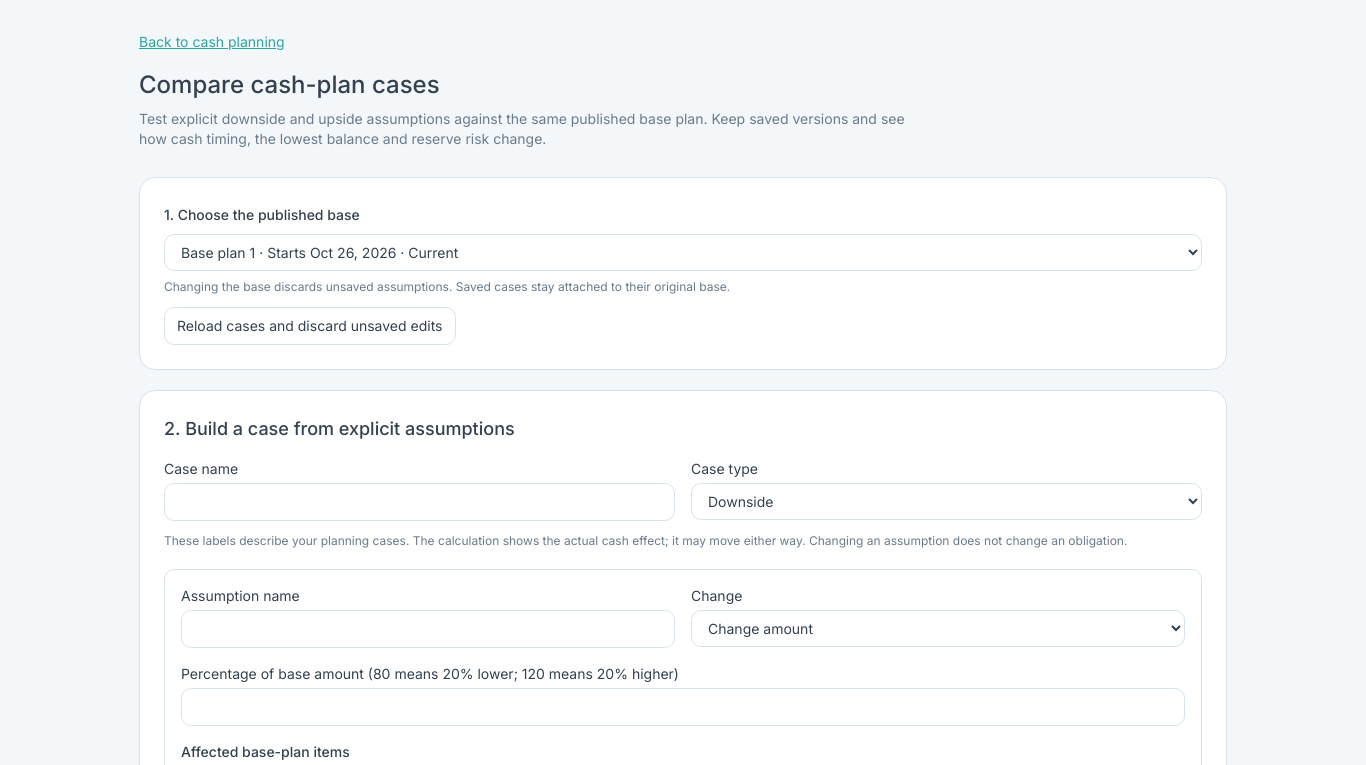
Test case: Saved cash-case owner workflow › builds an explicit percentage assumption, compares exact weeks, saves and reloads history
Type "Lower collections" into the field labelled "Case name". click: x=420, y=502
box: [164, 483, 675, 521]
Type "Partial receipt" into the field labelled "Assumption name". click: x=428, y=629
box: [181, 610, 675, 648]
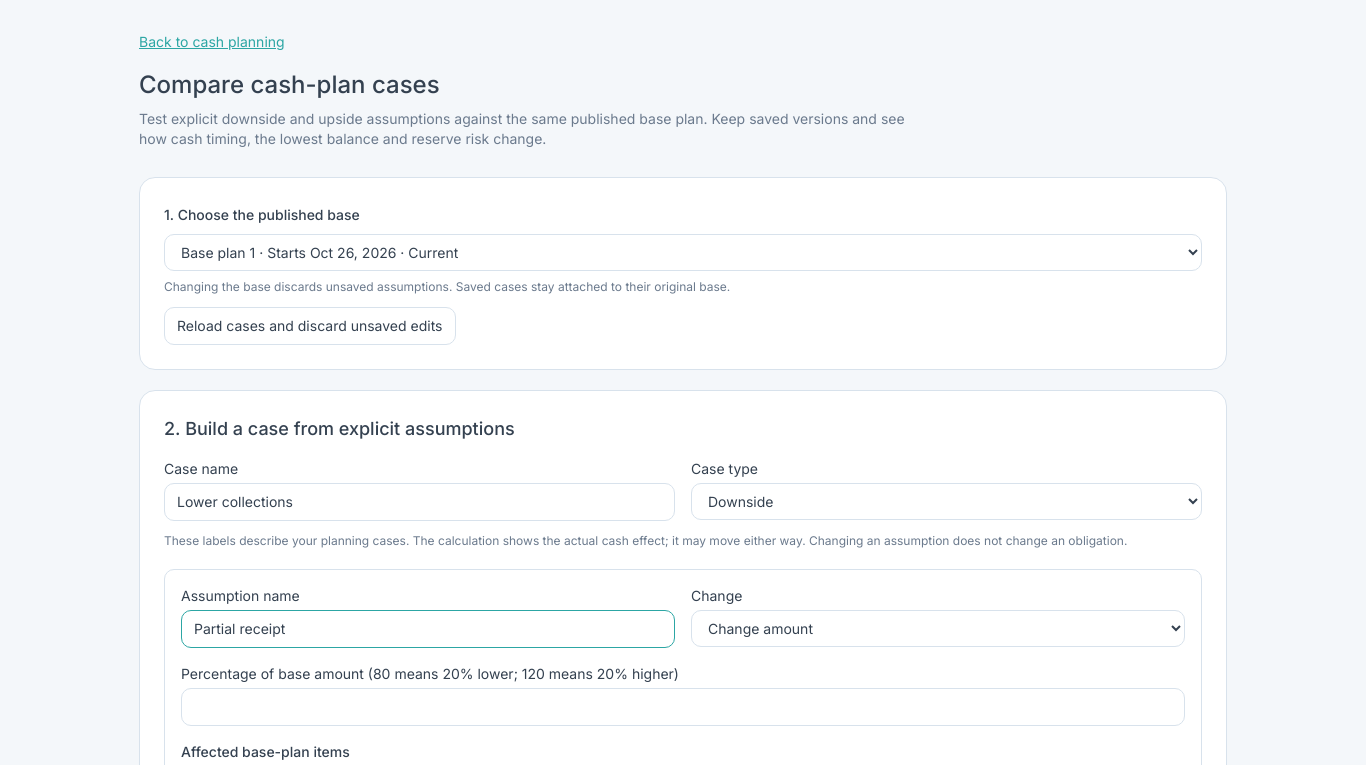
Type "80" into the number field labelled "Percentage of base amount". click: x=683, y=707
box: [181, 688, 1185, 726]
(page scrolled)
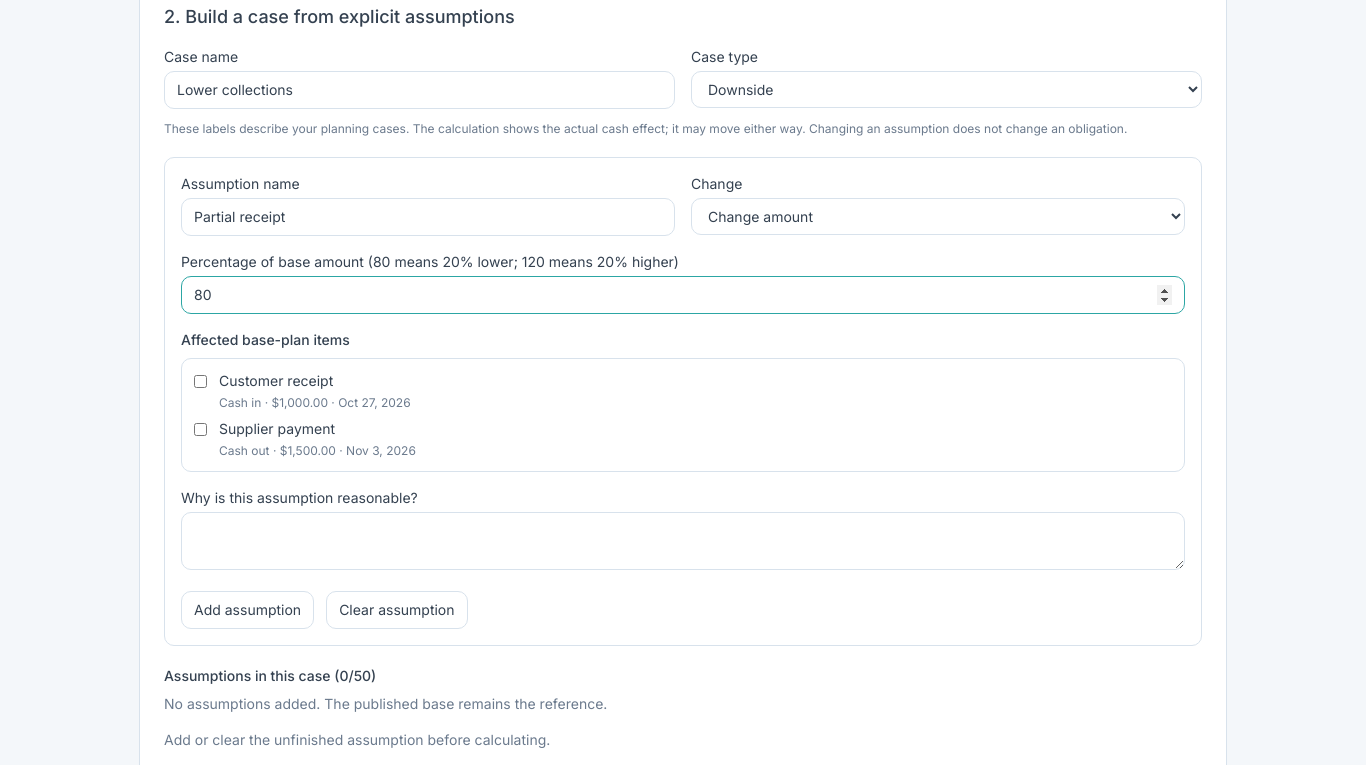
Click the checkbox labelled "Customer receipt Cash in · $1,000.00 · Oct 27, 2026". click: x=200, y=382
box: [194, 375, 207, 388]
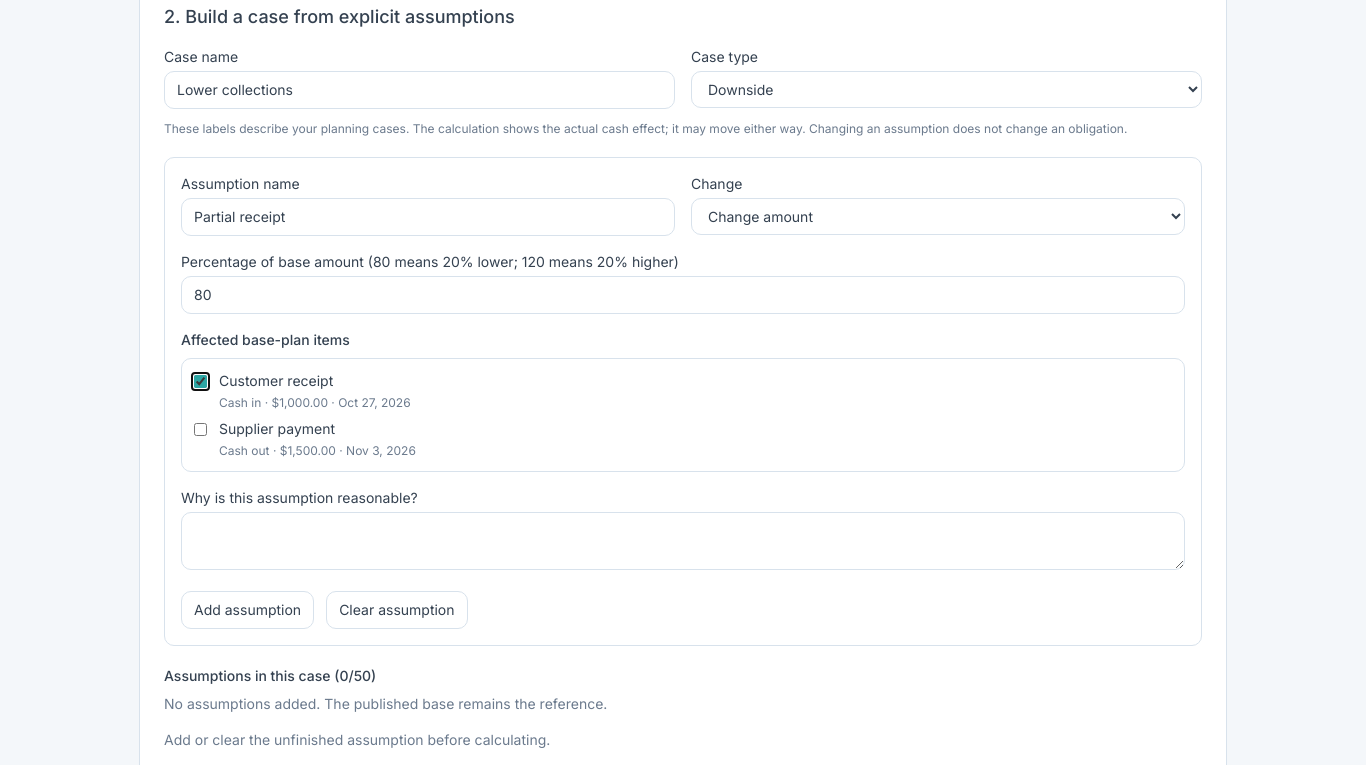
Type "Customer confirmed a partial settlement" into the text box labelled "Why is this assumption reasonable?". click: x=683, y=541
box: [181, 512, 1185, 570]
Click the button "Add assumption". click: x=248, y=610
box: [181, 591, 314, 629]
(page scrolled)
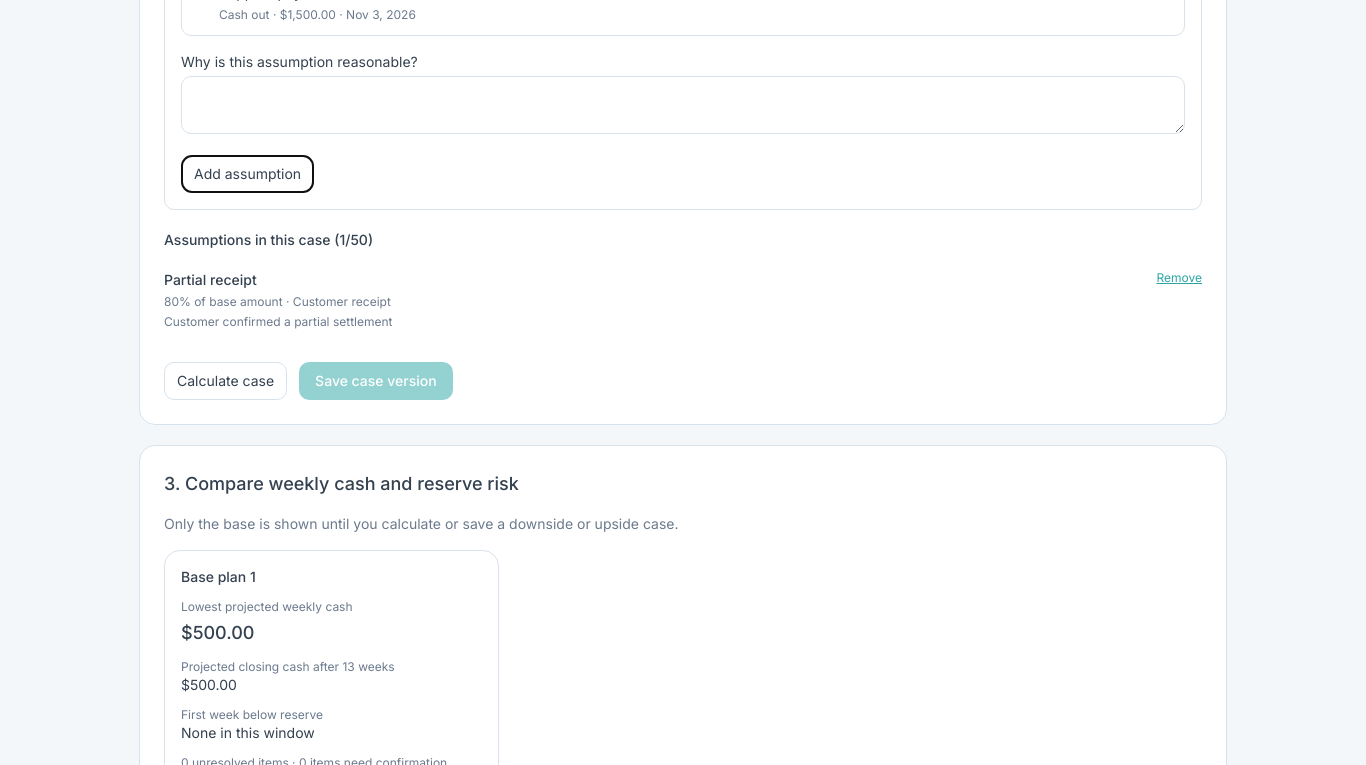
Click the button "Calculate case". click: x=226, y=381
box: [164, 362, 287, 400]
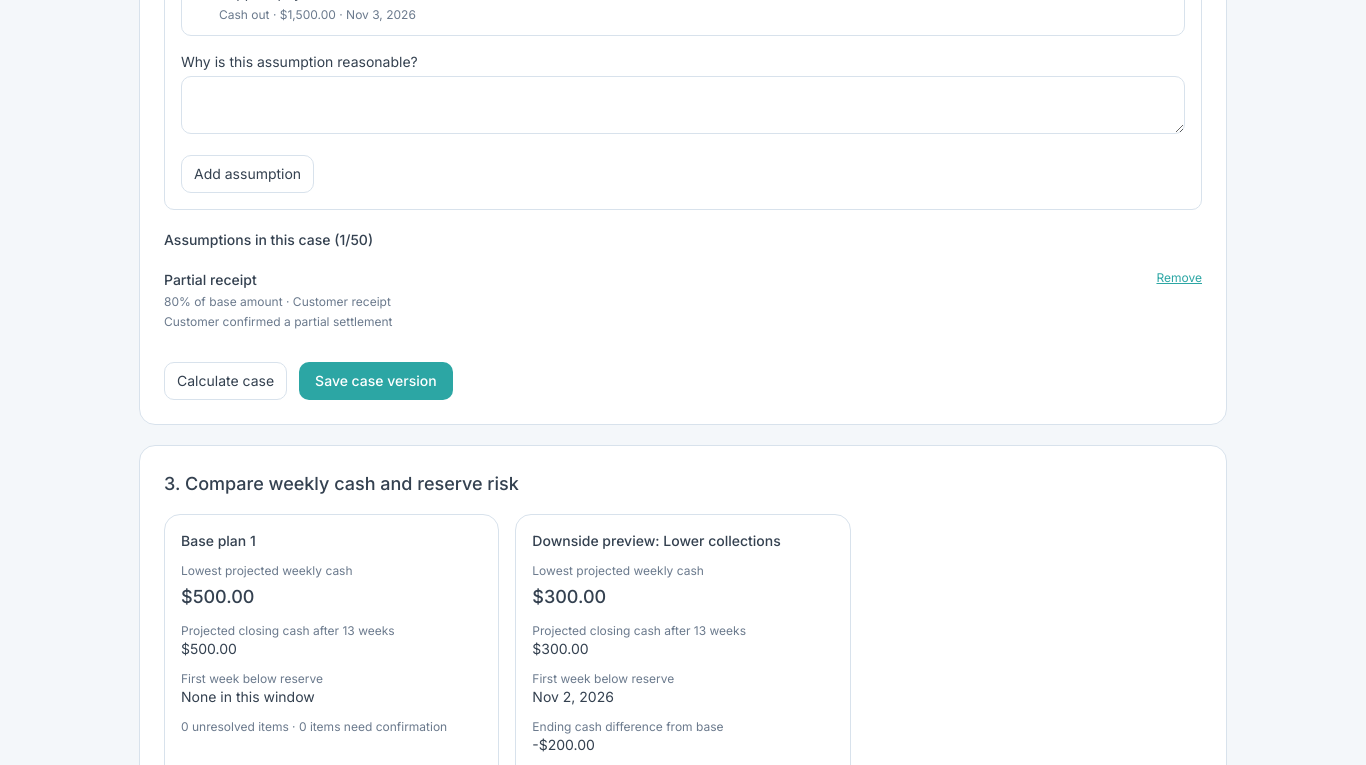
expect the heading "Downside preview: Lower collections" is shown: met, box [532, 532, 781, 549]
Click the button "Save case version". click: x=376, y=381
box: [299, 362, 453, 400]
(page scrolled)
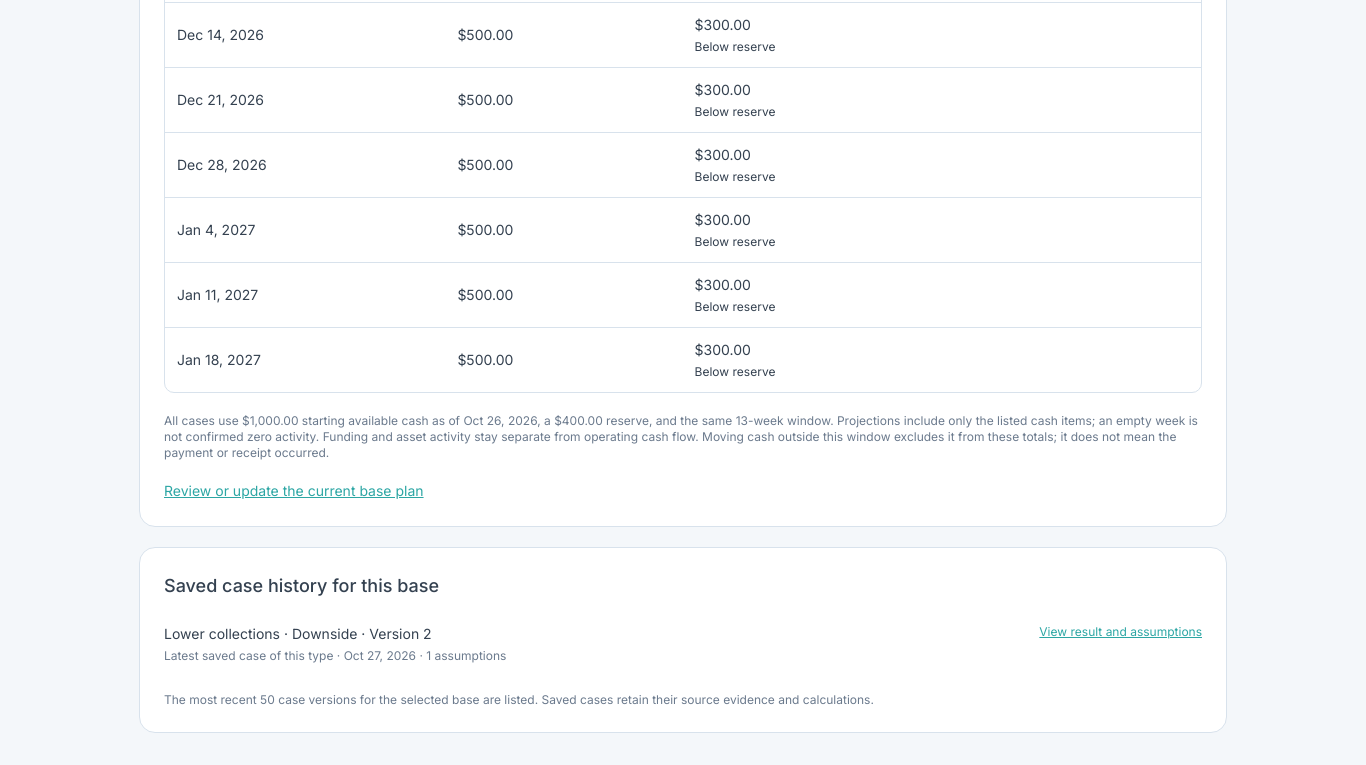
expect the text "Lower collections · Downside · Version 2" is shown: met, box [164, 625, 432, 642]
